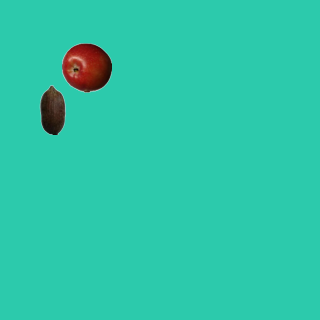Apple Braeburn: (61, 42, 111, 92)
Nut Pecan: (27, 84, 77, 134)
